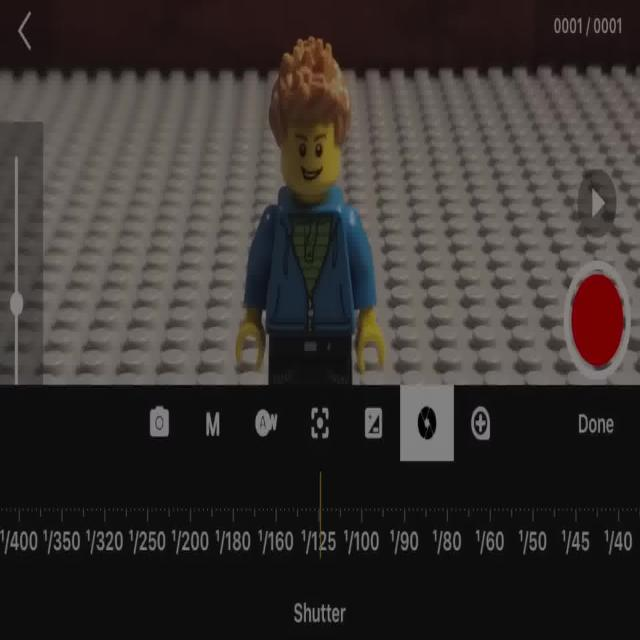4: (349, 211, 389, 372), (237, 214, 263, 364)
hand: (234, 37, 386, 384)
